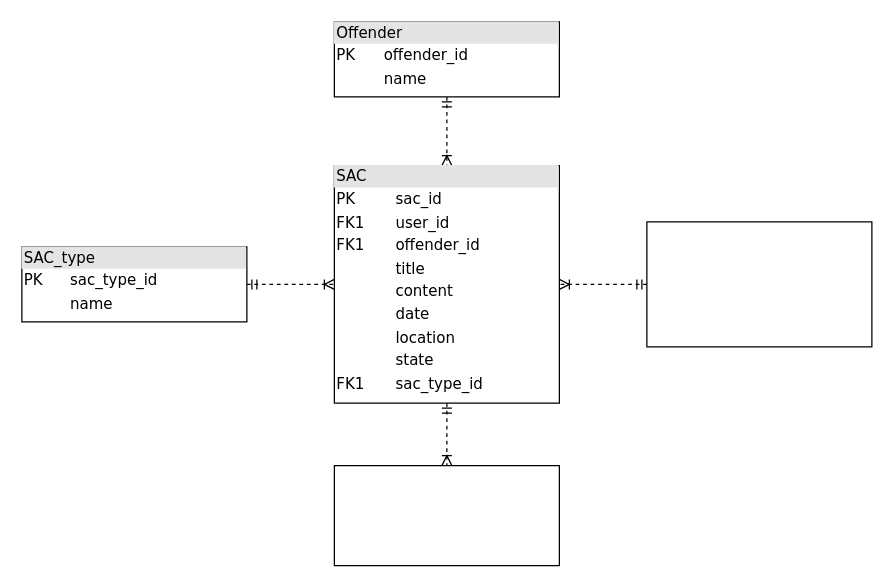
Image size: 894x588. Some labels were removed from this diagram. The shapes that lost their labels are listed below. From the top down, each one's centre as x and y in pixels, then its label:
(759,284): User PK user_id name email password
(446,515): Image PK image_id FK1 sac_id base64_encode
